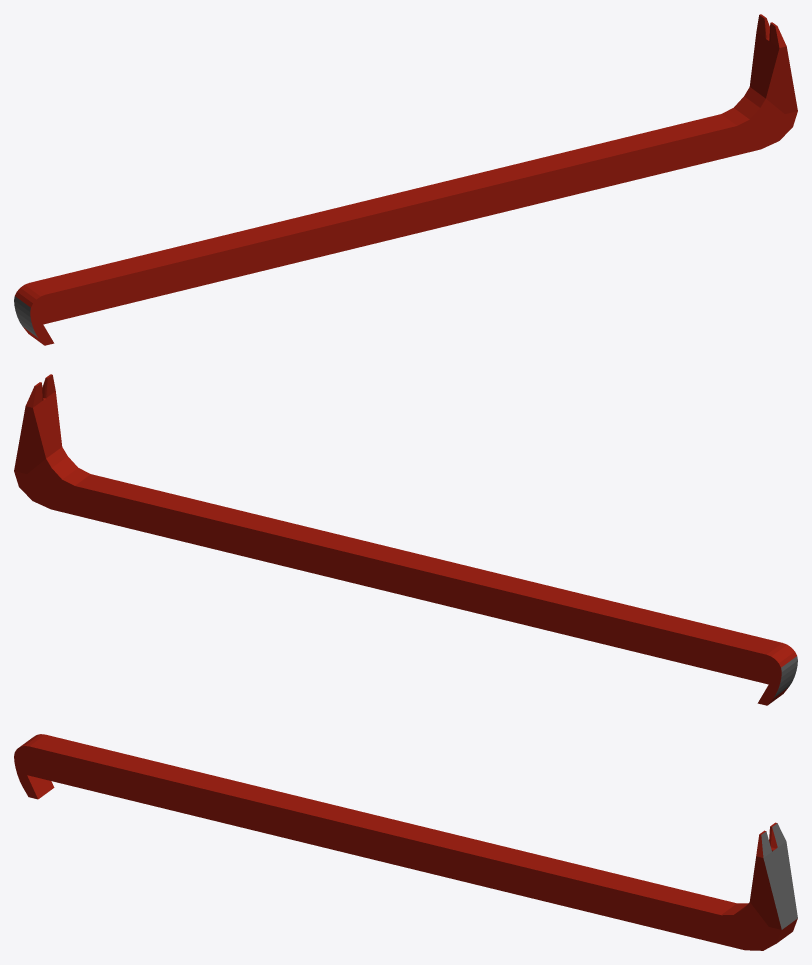
The model's file is Brechstange.fbx.
The picture shows the model from 3 angles, top to bottom: view 1: azimuth 30°, elevation 25°; view 2: azimuth 150°, elevation 25°; view 3: azimuth 330°, elevation 25°; orthographic projection.
Visible parts, largest first — view 1: Brechstange; view 2: Brechstange; view 3: Brechstange.
Part boxes in pixels (box(x1,y1,x2,y2)): Brechstange: box(14, 14, 797, 345); Brechstange: box(14, 374, 797, 705); Brechstange: box(14, 734, 797, 950).
Size of the model in its own units: 1.38 by 0.2421 by 0.0716.
